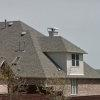Chimney: (42, 22, 62, 46)
